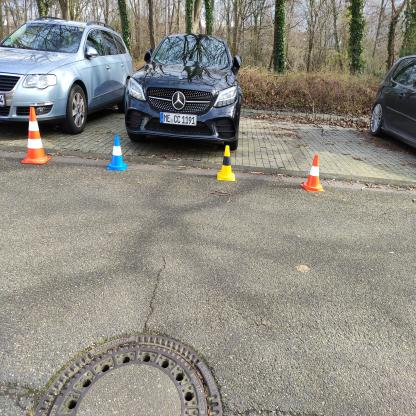Cones_big: (14, 103, 53, 173)
Cones_small_blue: (103, 130, 131, 181)
Cones_small_orange: (298, 148, 326, 197)
Cones_small_yellow: (214, 142, 240, 184)
